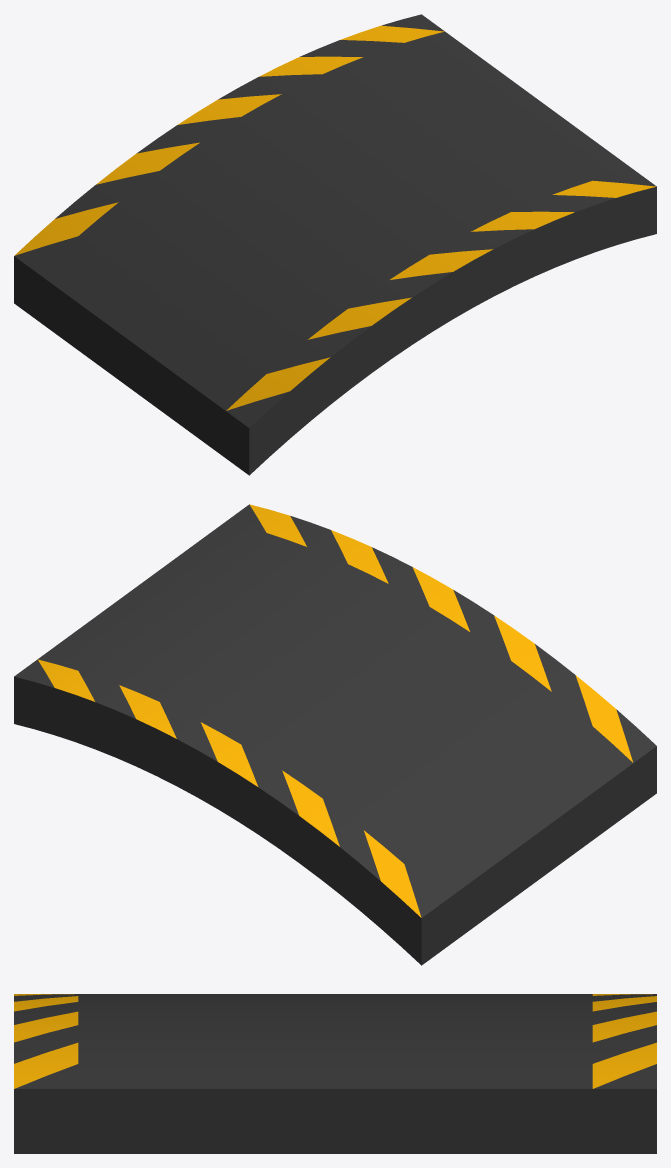
The picture shows the model from 3 angles, top to bottom: view 1: azimuth 30°, elevation 25°; view 2: azimuth 150°, elevation 25°; view 3: azimuth 270°, elevation 25°; orthographic projection. The views are drawn at different scales.
Visible parts, largest first — view 1: e3; view 2: e3; view 3: e3.
Boxes of the visible parts, x1,y1,x2,y2 form: e3: [14, 14, 656, 475]; e3: [14, 504, 656, 965]; e3: [14, 994, 656, 1153].
Size of the model in its own units: 9 by 4 by 9.
